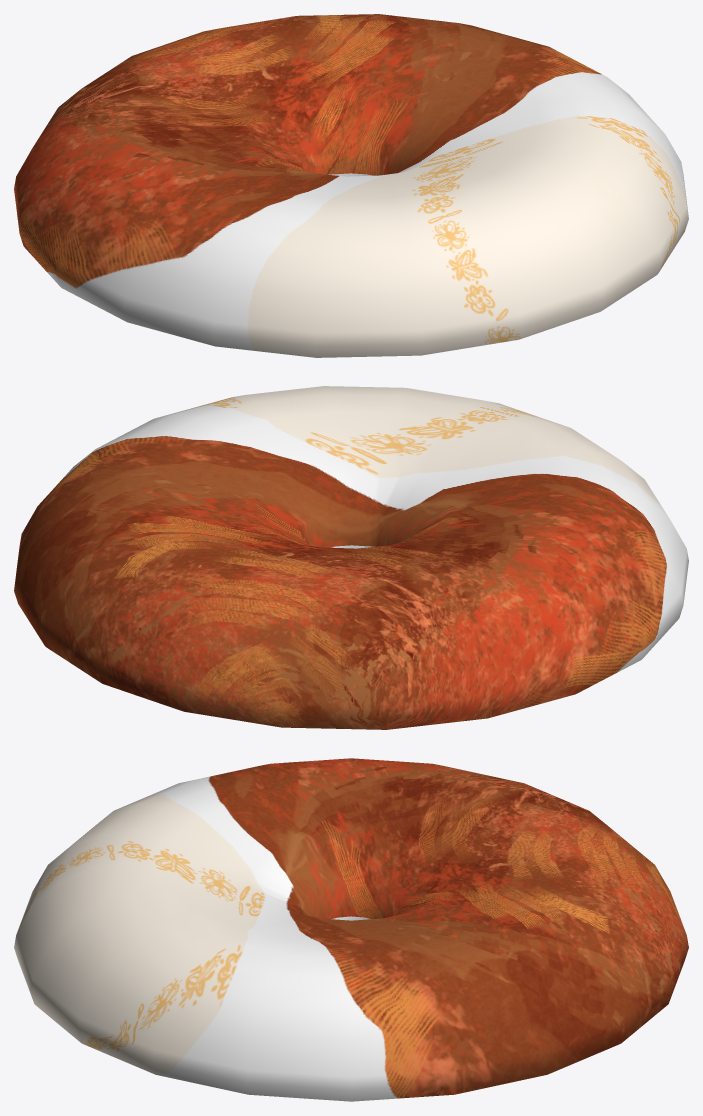
File: Bagel.obj
The picture shows the model from 3 angles, top to bottom: view 1: azimuth 30°, elevation 25°; view 2: azimuth 150°, elevation 25°; view 3: azimuth 270°, elevation 25°; orthographic projection.
Visible parts, largest first — view 1: polySurface3; view 2: polySurface3; view 3: polySurface3.
Boxes of the visible parts, x1,y1,x2,y2 form: polySurface3: (14,14,688,357); polySurface3: (14,386,688,729); polySurface3: (14,758,688,1101).
Bounding box in the file's own units: 0.7532 × 0.1281 × 0.7532.
